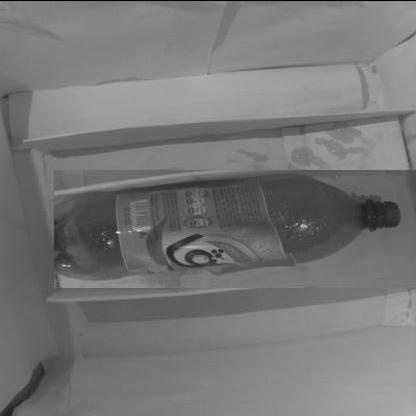plastic_bottles: (54, 169, 416, 287)
